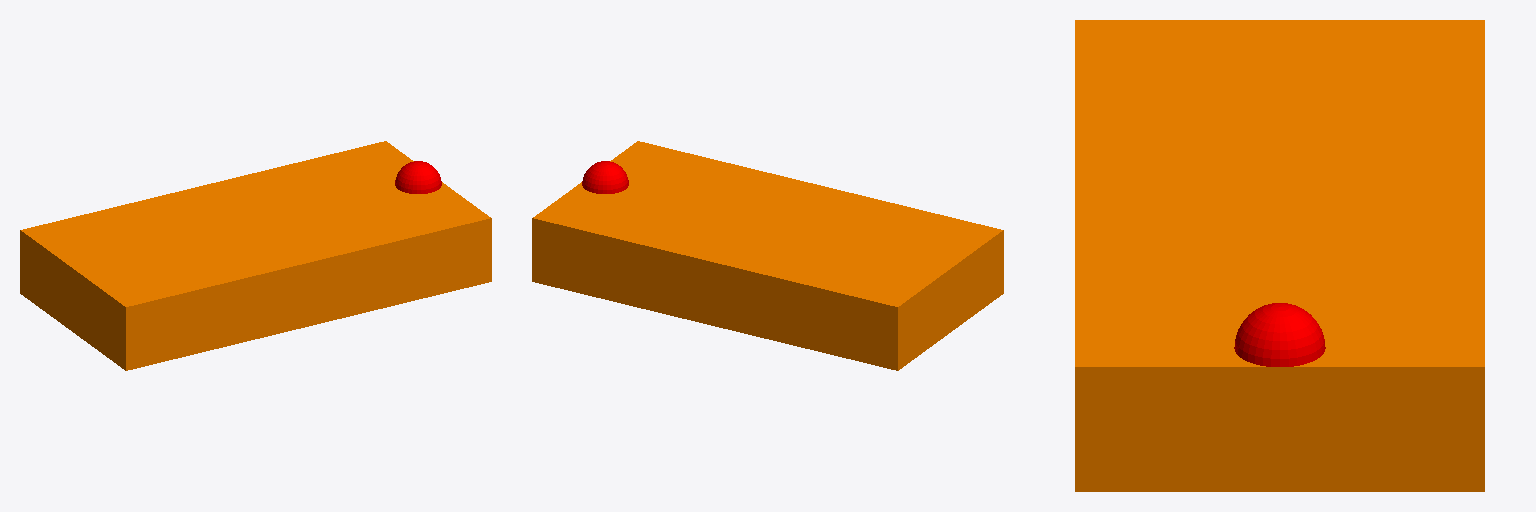
The robot description file, URDF, robot "roboat":
<?xml version="1.0"?>
<robot name="roboat">

  <link name="base_link">
    <inertial>
      <origin xyz="0 0 0" rpy="0 0 0"/>
      <mass value="1.0"/>
      <inertia ixx="0.000833" iyy="0.000833" izz="0.000833" ixy="0" ixz="0" iyz="0"/>
    </inertial>

    <visual>
      <origin xyz="0 0 0" rpy="0 0 0"/>
      <geometry>
        <box size="0.9 0.45 0.15"/>
      </geometry>
      <material name="orange">
        <color rgba="1 0.549 0 1"/>
      </material>
    </visual>

    <collision>
      <origin xyz="0 0 0" rpy="0 0 0"/>
      <geometry>
        <box size="0.9 0.45 0.15"/>
      </geometry>
    </collision>
  </link>

  <joint name="base_to_front_ball" type="fixed">
    <parent link="base_link"/>
    <child link="front_ball"/>
    <origin xyz="0.40 0 0.075" rpy="0 0 0"/>
  </joint>

  <link name="front_ball">
     <inertial>
      <origin xyz="0 0 0" rpy="0 0 0"/>
      <mass value="1.0"/>
      <inertia ixx="0.000833" iyy="0.000833" izz="0.000833" ixy="0" ixz="0" iyz="0"/>
    </inertial>

    <visual>
      <geometry>
        <sphere radius="0.05"/>
      </geometry>
      <material name="red">
        <color rgba="1 0 0 1"/>
      </material>
    </visual>
  </link>


</robot>

--- Render facts (derived) ---
Views: 3 orthographic renders of the robot side by side, from view 1: azimuth 30°, elevation 25°; view 2: azimuth 150°, elevation 25°; view 3: azimuth 270°, elevation 25°.
Robot: roboat — 2 links, 1 joints (1 fixed); root link base_link; default pose: all joints at 0.
Links seen in each view (by area): view 1: base_link, front_ball; view 2: base_link, front_ball; view 3: base_link, front_ball.
Link boxes in pixels (left/top/right/bottom): base_link: left=20, top=141, right=491, bottom=370; front_ball: left=395, top=161, right=441, bottom=193; base_link: left=532, top=141, right=1003, bottom=370; front_ball: left=582, top=161, right=628, bottom=193; base_link: left=1075, top=20, right=1484, bottom=491; front_ball: left=1234, top=303, right=1325, bottom=366.
Bounding box of the posed robot: 0.9 × 0.45 × 0.2 m (x, y, z).
Geometry: primitives only (box / cylinder / sphere), no mesh files.